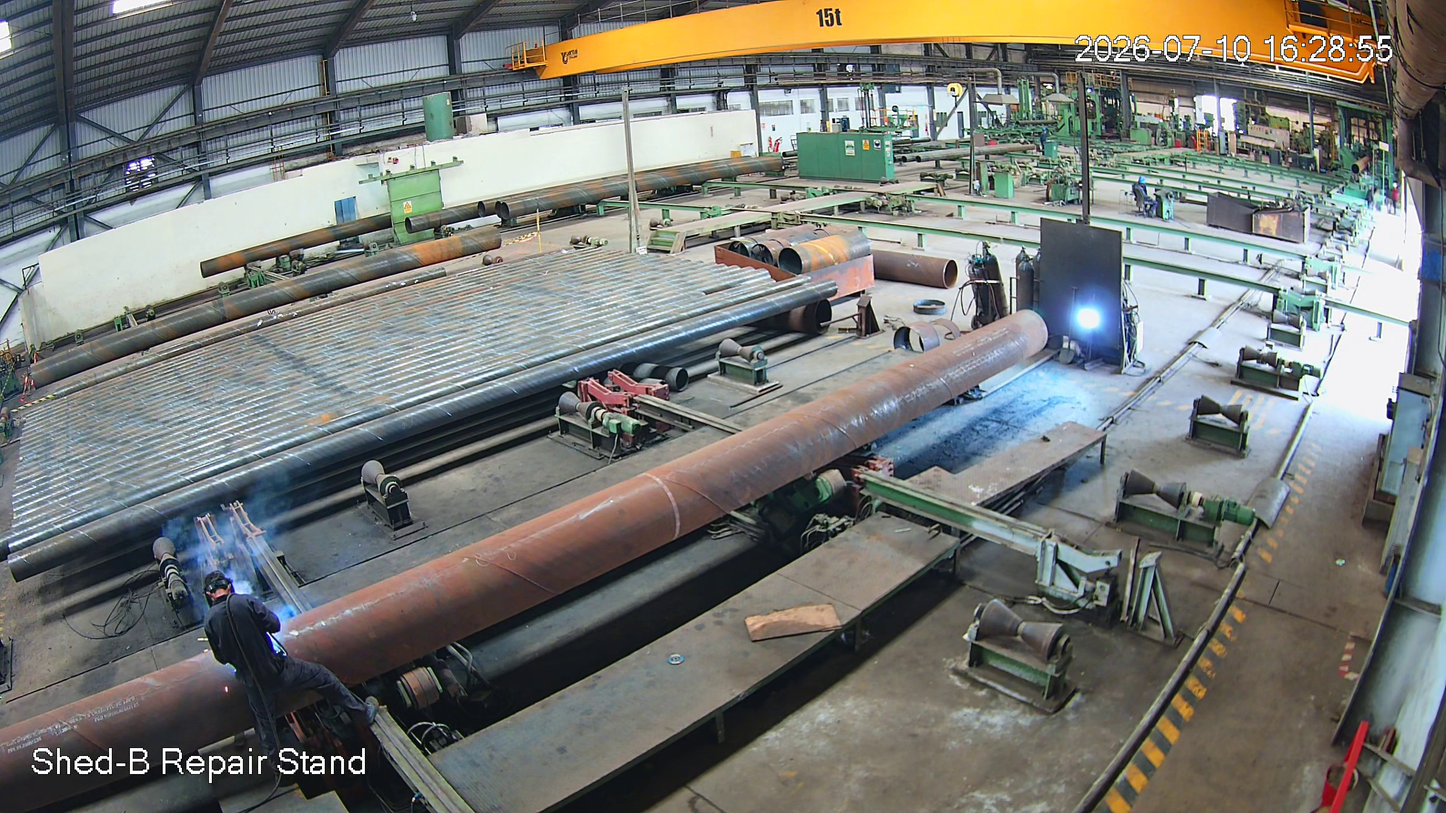Helmet: (193, 569, 261, 620)
Person: (196, 565, 322, 803)
